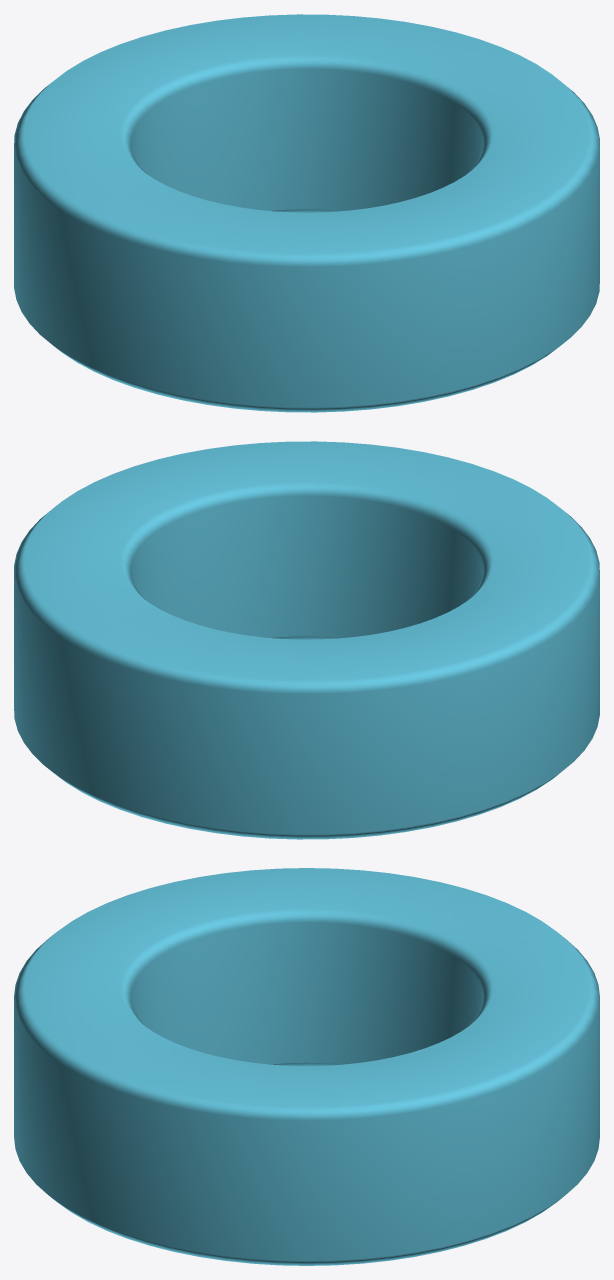
3 views of the same model, one above another, from view 1: azimuth 30°, elevation 25°; view 2: azimuth 150°, elevation 25°; view 3: azimuth 270°, elevation 25° (orthographic).
Parts seen in each view (by area): view 1: seal_body; view 2: seal_body; view 3: seal_body.
Boxes of the visible parts, left/top/right/bottom form: seal_body: left=14, top=14, right=599, bottom=412; seal_body: left=14, top=441, right=599, bottom=839; seal_body: left=14, top=868, right=599, bottom=1265.
Size of the model in its own units: 0.0318 by 0.00952 by 0.0318.
